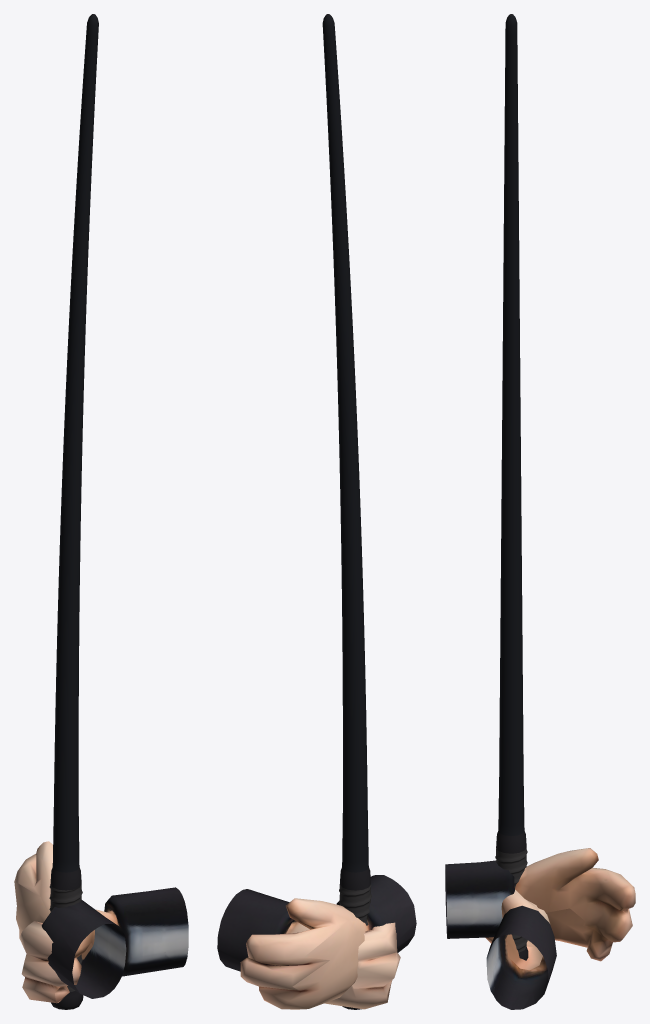
File: doubao-grip136.glb
3 views of the same model, side by side, from view 1: azimuth 30°, elevation 25°; view 2: azimuth 150°, elevation 25°; view 3: azimuth 270°, elevation 25° (orthographic). The views are drawn at different scales.
Visible parts, largest first — view 1: HomeroomPointer, DoubaoGrip, DoubaoFreeHand; view 2: HomeroomPointer, DoubaoFreeHand, DoubaoGrip; view 3: HomeroomPointer, DoubaoFreeHand, DoubaoGrip.
Part boxes in pixels (box(x1,y1,x2,y2)): HomeroomPointer: box(49, 14, 98, 1009); DoubaoGrip: box(19, 887, 188, 1003); DoubaoFreeHand: box(14, 841, 126, 998); HomeroomPointer: box(322, 14, 371, 1009); DoubaoFreeHand: box(240, 875, 416, 1009); DoubaoGrip: box(217, 889, 400, 1009); HomeroomPointer: box(495, 14, 528, 960); DoubaoFreeHand: box(445, 848, 635, 961); DoubaoGrip: box(485, 889, 556, 1009).
Size of the model in its own units: 0.2137 by 1.25 by 0.2237.
Materials: 4 (2 with a texture image).
